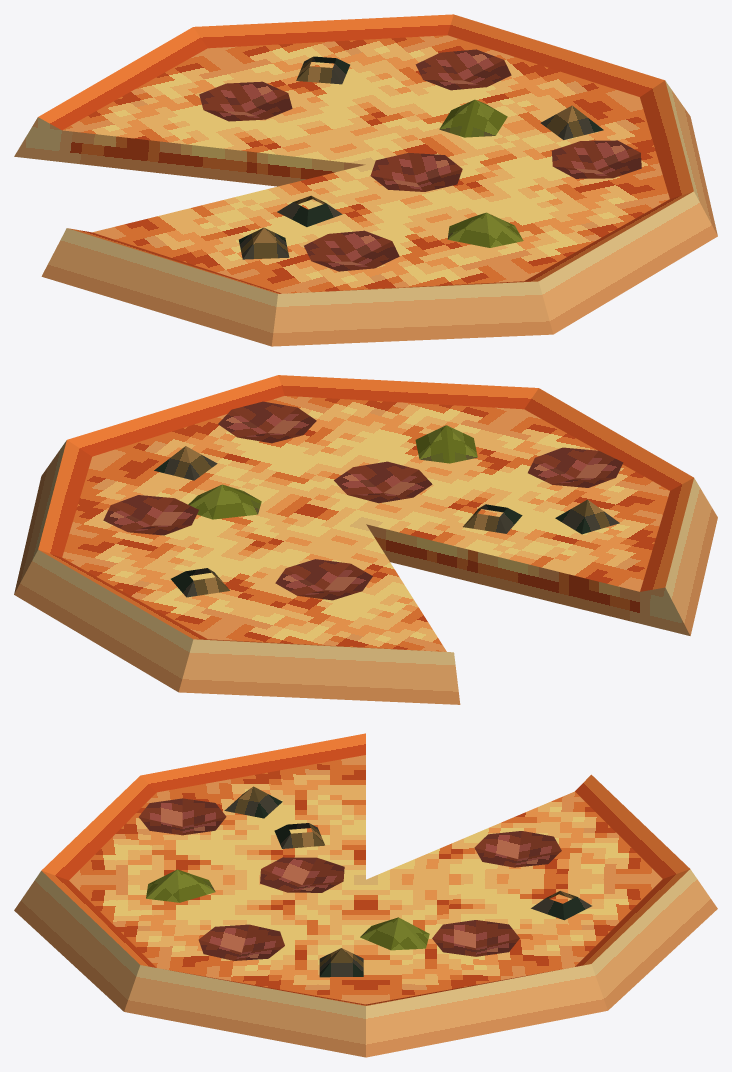
Rendered from pizza_cut.fbx.
The picture shows the model from 3 angles, top to bottom: view 1: azimuth 30°, elevation 25°; view 2: azimuth 150°, elevation 25°; view 3: azimuth 270°, elevation 25°; orthographic projection. The views are drawn at different scales.
Parts seen in each view (by area): view 1: PizzaCut; view 2: PizzaCut; view 3: PizzaCut.
Part boxes in pixels (x1=…): PizzaCut: x1=14, y1=14, x2=717, y2=346; PizzaCut: x1=14, y1=375, x2=717, y2=704; PizzaCut: x1=14, y1=733, x2=717, y2=1057.
Bounding box in the file's own units: 200 × 16.18 × 200.
Materials: 1 (1 with a texture image).
